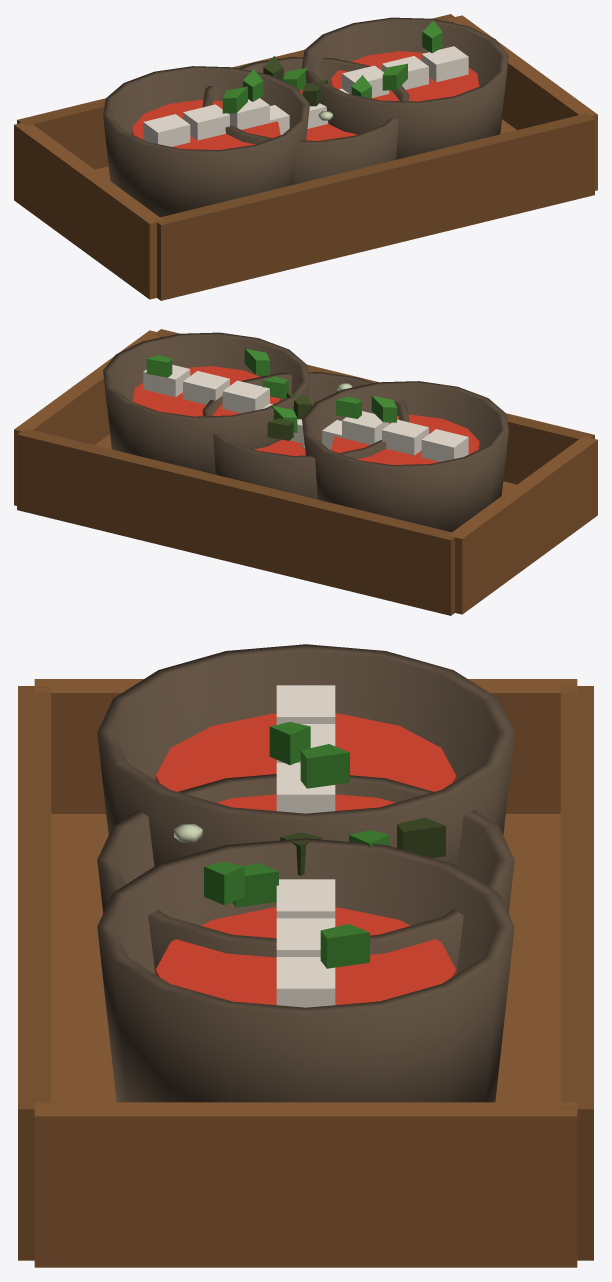
Rendered from Soup_Fish.fbx.
3 views of the same model, one above another, from view 1: azimuth 30°, elevation 25°; view 2: azimuth 150°, elevation 25°; view 3: azimuth 270°, elevation 25° (orthographic). The views are drawn at different scales.
Parts seen in each view (by area): view 1: Soup_Fish__Stack, Soup_Fish, Soup_Fish__Rotten; view 2: Soup_Fish__Stack, Soup_Fish, Soup_Fish__Rotten; view 3: Soup_Fish__Stack, Soup_Fish, Soup_Fish__Rotten.
Boxes of the visible parts, left/top/right/bottom form: Soup_Fish__Stack: left=14, top=14, right=597, bottom=300; Soup_Fish: left=202, top=57, right=409, bottom=184; Soup_Fish__Rotten: left=263, top=56, right=332, bottom=120; Soup_Fish__Stack: left=14, top=329, right=597, bottom=615; Soup_Fish: left=202, top=372, right=409, bottom=499; Soup_Fish__Rotten: left=267, top=383, right=352, bottom=449; Soup_Fish__Stack: left=18, top=644, right=593, bottom=1267; Soup_Fish: left=97, top=774, right=514, bottom=974; Soup_Fish__Rotten: left=174, top=817, right=445, bottom=875.
Size of the model in its own units: 0.248 by 0.0678 by 0.138.
